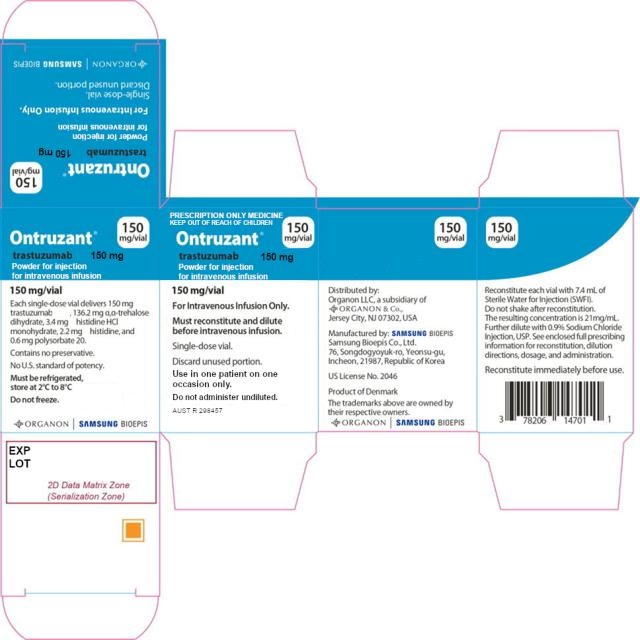Artwork: (0, 0, 640, 640)
Back_Panel: (478, 209, 634, 434)
Bottom_Part: (0, 432, 160, 596)
Extra_Areas: (160, 432, 318, 512), (478, 433, 634, 512), (165, 129, 318, 209), (478, 129, 634, 207), (0, 0, 167, 44), (2, 597, 159, 639), (317, 196, 478, 208), (159, 44, 167, 208)
Front_Panel: (159, 209, 318, 433)
Side_Panel: (1, 207, 160, 433), (318, 209, 478, 432)
Top_Panel: (0, 43, 161, 207)
